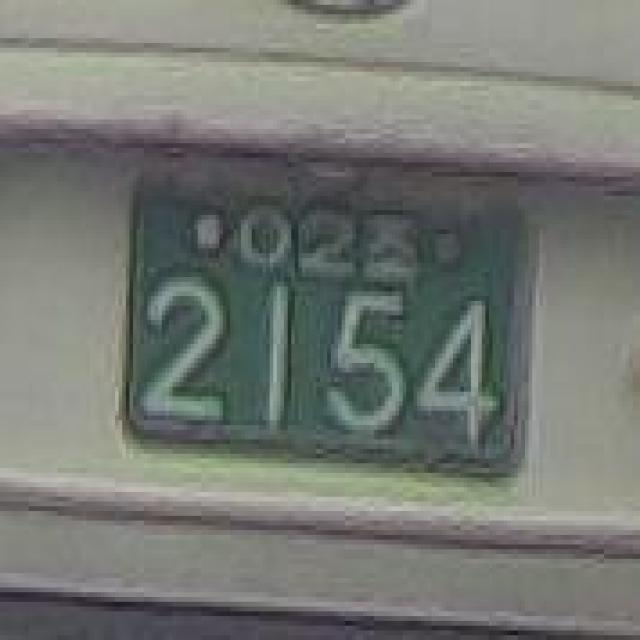illegal_plate: (114, 140, 553, 508)
